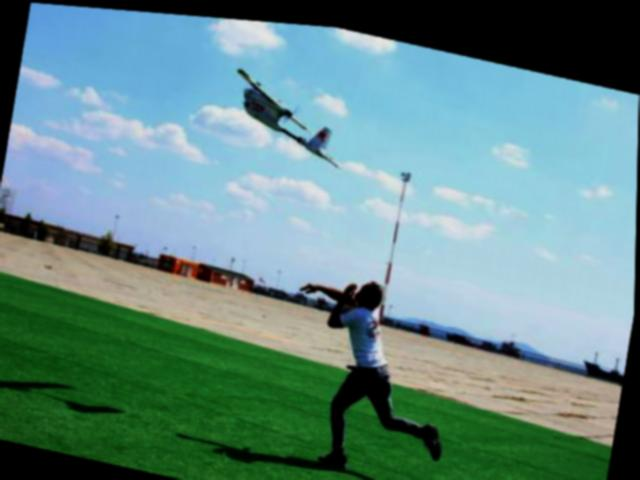uav: (225, 64, 355, 166)
